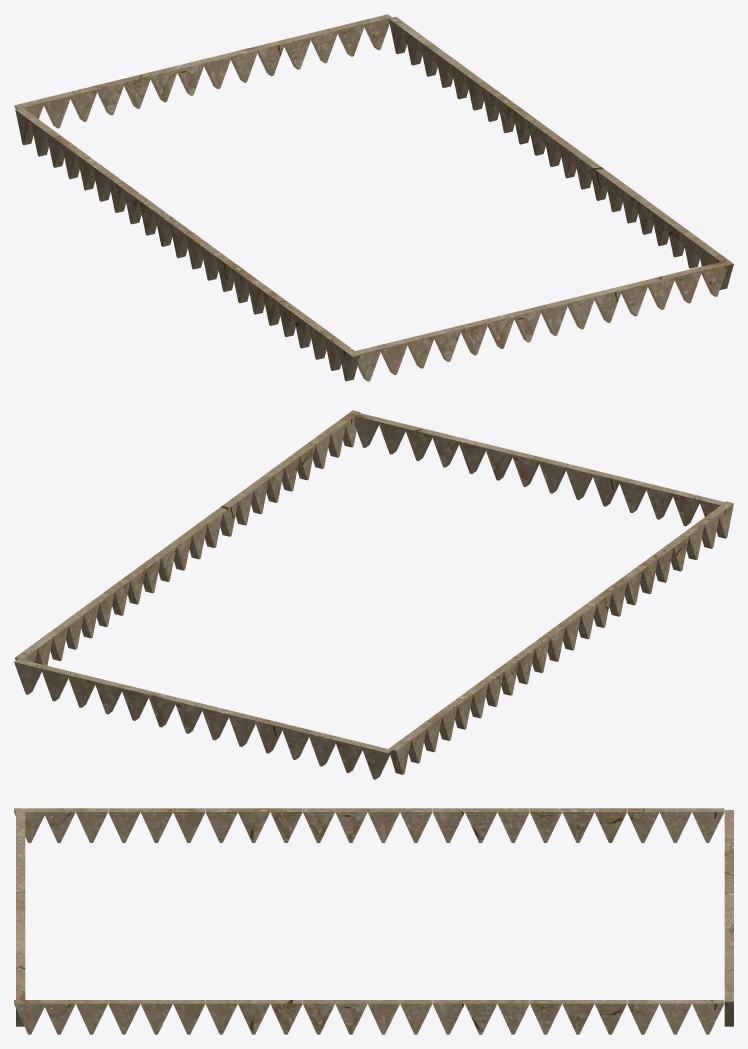
The model's file is pasted__top02.fbx.
3 views of the same model, one above another, from view 1: azimuth 30°, elevation 25°; view 2: azimuth 150°, elevation 25°; view 3: azimuth 270°, elevation 25° (orthographic). The views are drawn at different scales.
Visible parts, largest first — view 1: pasted__stone_column_641, pasted__stone_column_694, pasted__stone_column_643, pasted__stone_column_646, pasted__stone_column_702, pasted__stone_column_707, pasted__stone_column_639, pasted__stone_column_647, pasted__stone_column_696, pasted__stone_column_697, pasted__stone_column_698, pasted__stone_column_638 (+15 smaller); view 2: pasted__stone_column_648, pasted__stone_column_646, pasted__stone_column_696, pasted__stone_column_700, pasted__stone_column_638, pasted__stone_column_640, pasted__stone_column_647, pasted__stone_column_694, pasted__stone_column_698, pasted__stone_column_703, pasted__stone_column_708, pasted__stone_column_642 (+15 smaller); view 3: pasted__stone_column_669, pasted__stone_column_654, pasted__stone_column_655, pasted__stone_column_661, pasted__stone_column_662, pasted__stone_column_653, pasted__stone_column_656, pasted__stone_column_663, pasted__stone_column_668, pasted__stone_column_660, pasted__stone_column_650, pasted__stone_column_657 (+33 smaller).
Part boxes in pixels (bbox=[...]): pasted__stone_column_641: bbox=[201, 53, 231, 89]; pasted__stone_column_694: bbox=[672, 267, 702, 303]; pasted__stone_column_643: bbox=[148, 66, 178, 102]; pasted__stone_column_646: bbox=[67, 86, 98, 121]; pasted__stone_column_702: bbox=[458, 319, 488, 355]; pasted__stone_column_707: bbox=[308, 27, 338, 63]; pasted__stone_column_639: bbox=[254, 40, 285, 76]; pasted__stone_column_647: bbox=[41, 92, 71, 128]; pasted__stone_column_696: bbox=[618, 280, 648, 316]; pasted__stone_column_697: bbox=[591, 287, 622, 322]; pasted__stone_column_698: bbox=[565, 293, 595, 329]; pasted__stone_column_638: bbox=[281, 34, 311, 69]; pasted__stone_column_648: bbox=[361, 743, 392, 779]; pasted__stone_column_646: bbox=[308, 730, 338, 766]; pasted__stone_column_696: bbox=[431, 431, 461, 467]; pasted__stone_column_700: bbox=[538, 457, 568, 493]; pasted__stone_column_638: bbox=[94, 678, 124, 714]; pasted__stone_column_640: bbox=[147, 691, 177, 727]; pasted__stone_column_647: bbox=[335, 737, 365, 772]; pasted__stone_column_694: bbox=[378, 418, 408, 454]; pasted__stone_column_698: bbox=[485, 444, 515, 480]; pasted__stone_column_703: bbox=[618, 477, 648, 513]; pasted__stone_column_708: bbox=[41, 665, 71, 701]; pasted__stone_column_642: bbox=[201, 704, 231, 740]; pasted__stone_column_669: bbox=[692, 808, 724, 842]; pasted__stone_column_654: bbox=[205, 808, 237, 842]; pasted__stone_column_655: bbox=[238, 808, 270, 842]; pasted__stone_column_661: bbox=[432, 808, 464, 842]; pasted__stone_column_662: bbox=[465, 808, 497, 842]; pasted__stone_column_653: bbox=[173, 808, 205, 842]; pasted__stone_column_656: bbox=[270, 808, 302, 842]; pasted__stone_column_663: bbox=[497, 808, 529, 842]; pasted__stone_column_668: bbox=[659, 808, 691, 842]; pasted__stone_column_660: bbox=[400, 808, 432, 842]; pasted__stone_column_650: bbox=[75, 808, 107, 842]; pasted__stone_column_657: bbox=[303, 808, 335, 842].
Size of the model in its own units: 151 by 235 by 11.19.
